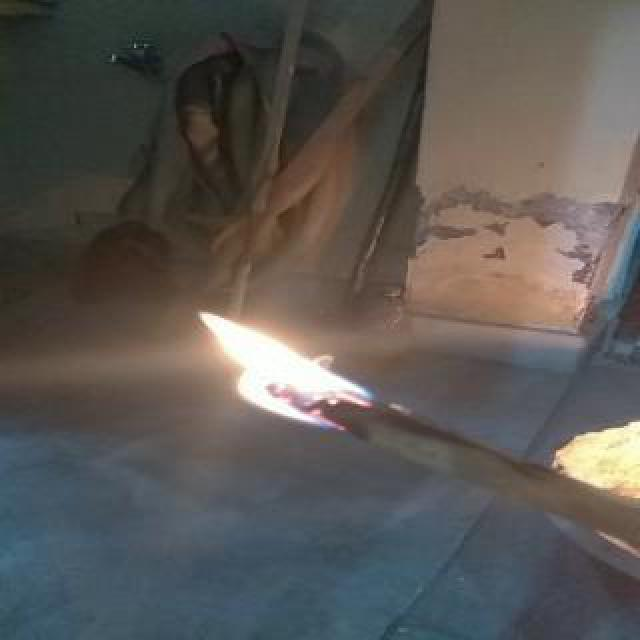Fire: (170, 300, 430, 438)
